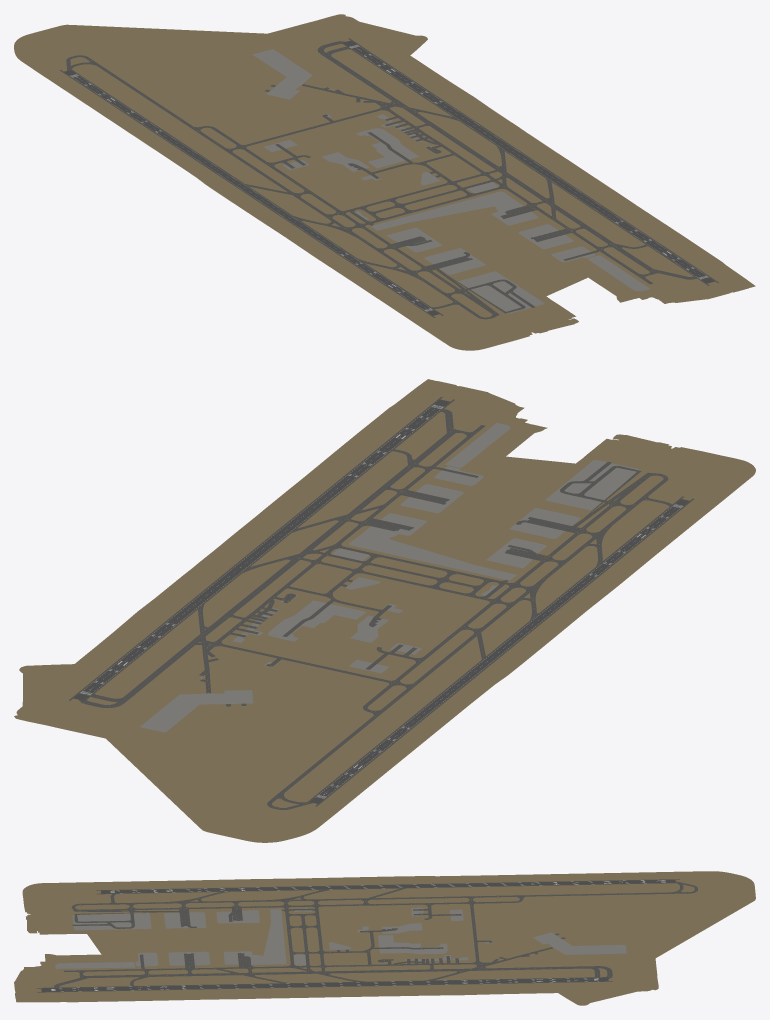
File: scl_placa_campo.glb
The picture shows the model from 3 angles, top to bottom: view 1: azimuth 30°, elevation 25°; view 2: azimuth 150°, elevation 25°; view 3: azimuth 270°, elevation 25°; orthographic projection. The views are drawn at different scales.
Parts seen in each view (by area): view 1: scl_placa_campo; view 2: scl_placa_campo; view 3: scl_placa_campo.
Part boxes in pixels (bbox=[...]): scl_placa_campo: bbox=[14, 14, 755, 350]; scl_placa_campo: bbox=[14, 379, 755, 842]; scl_placa_campo: bbox=[14, 871, 755, 1005].
Bounding box in the file's own units: 2170 × 0.12 × 5055.
